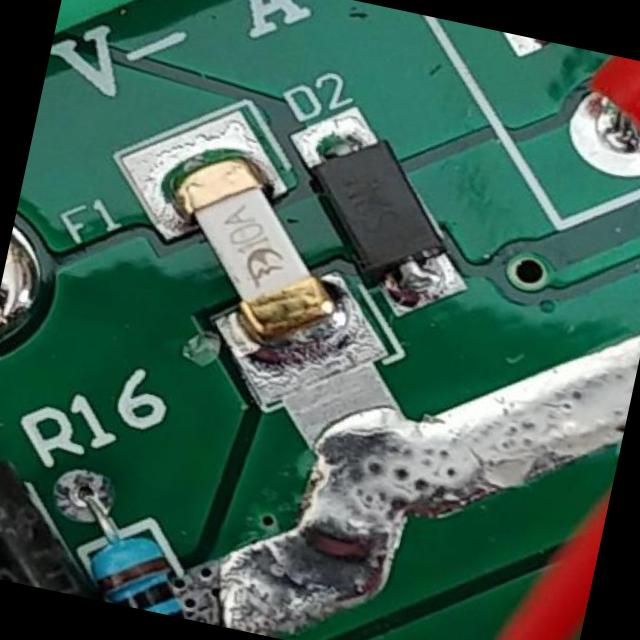LED: (146, 112, 365, 387)
diode: (306, 116, 484, 303)
